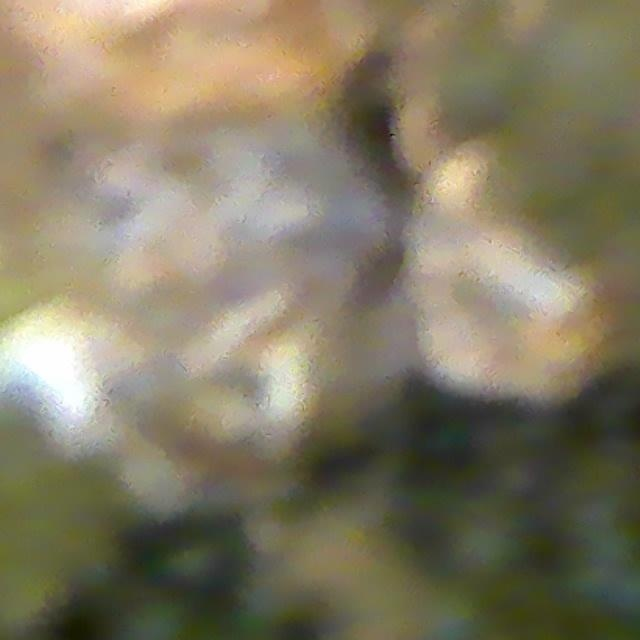SeaGrape: (413, 582, 486, 640), (115, 593, 192, 640)
